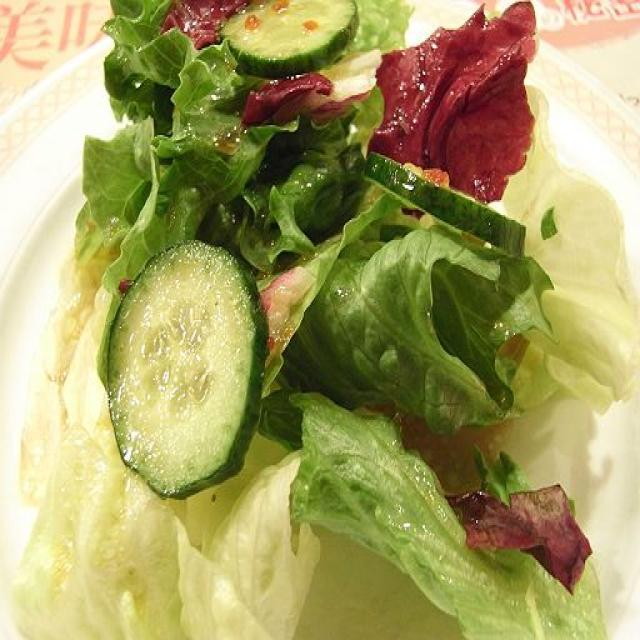Green Salad: (46, 0, 588, 637)
